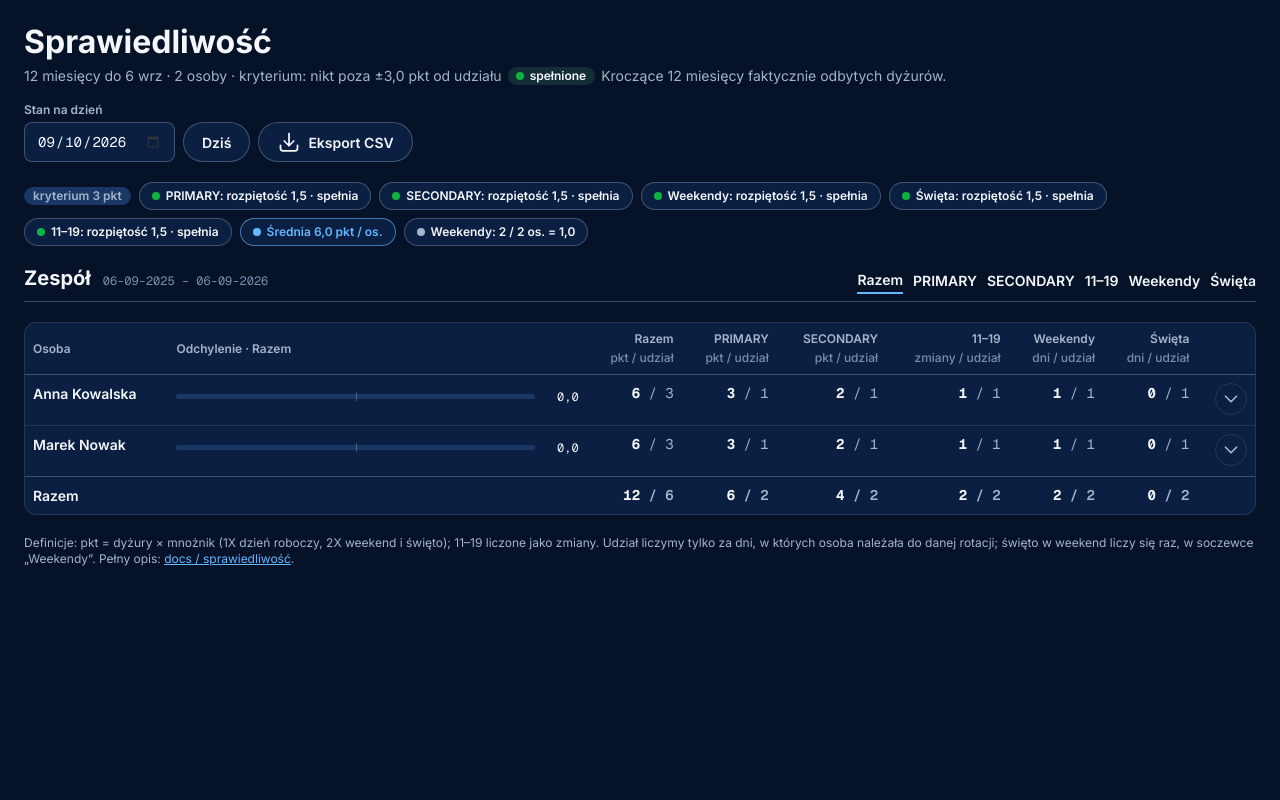
Test: FairnessPanel report states › falls back to the total lens when the 11-19 shift stops being its own lens
Click the button "11–19" at (1102, 282), box [1085, 270, 1118, 294]
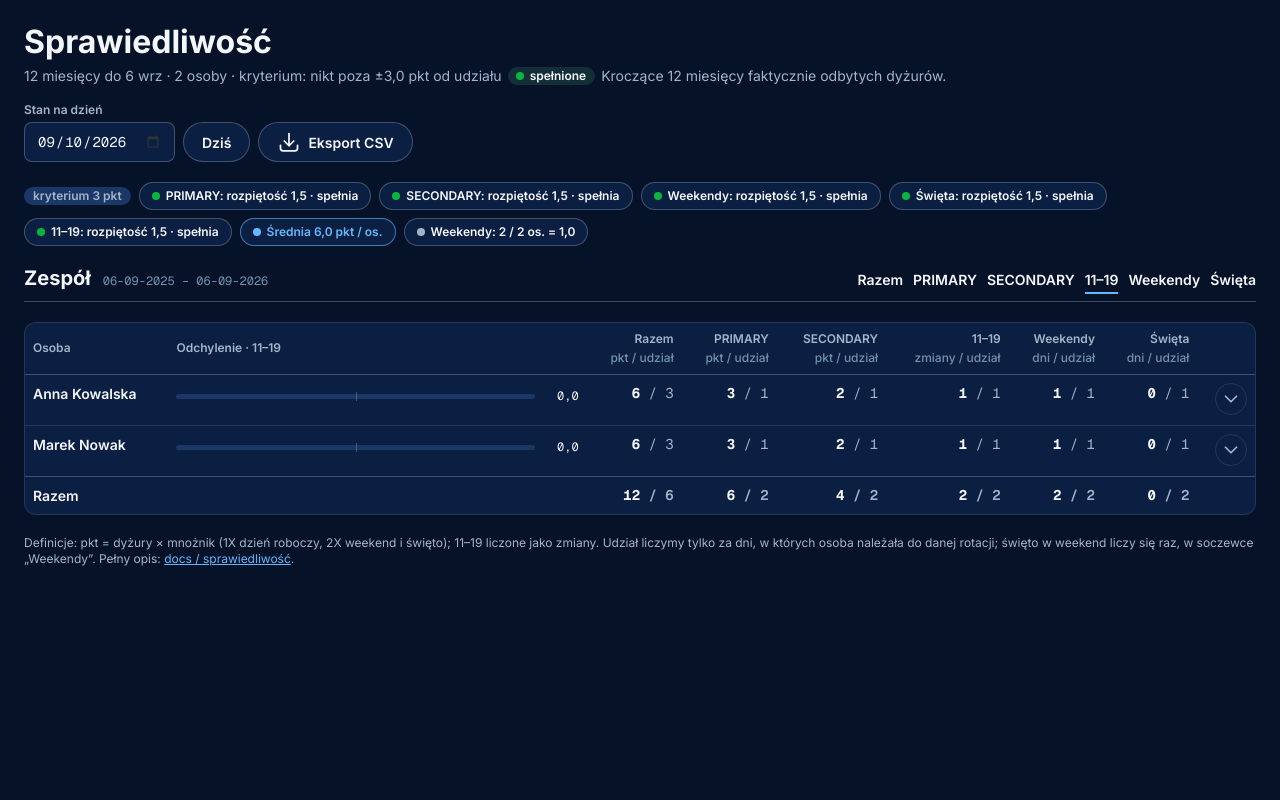
Check: the column heading "Odchylenie · 11–19" is shown, box [168, 322, 587, 374]
Type "2026-06-30" into the date field labelled "Stan na dzień" at (100, 142), box [24, 122, 175, 162]
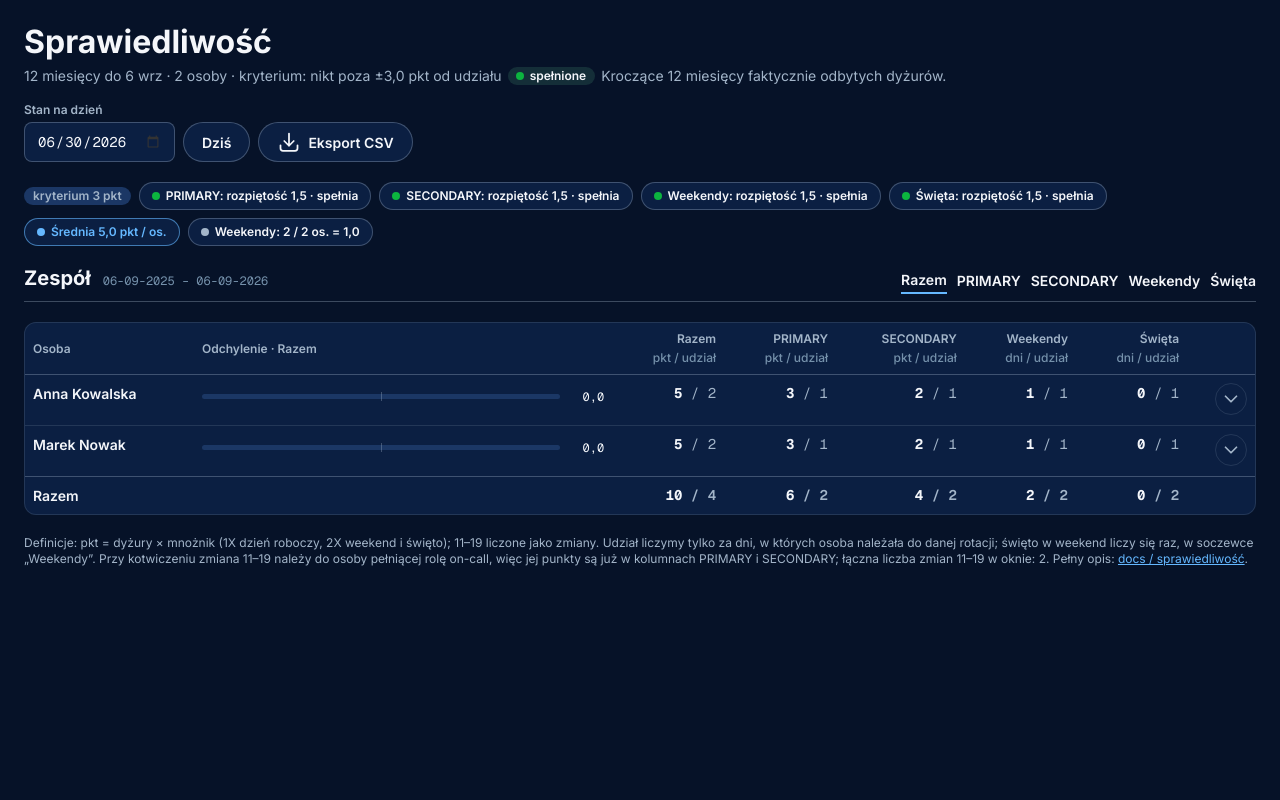
Check: the column heading "Odchylenie · Razem" is shown, box [194, 323, 612, 374]
